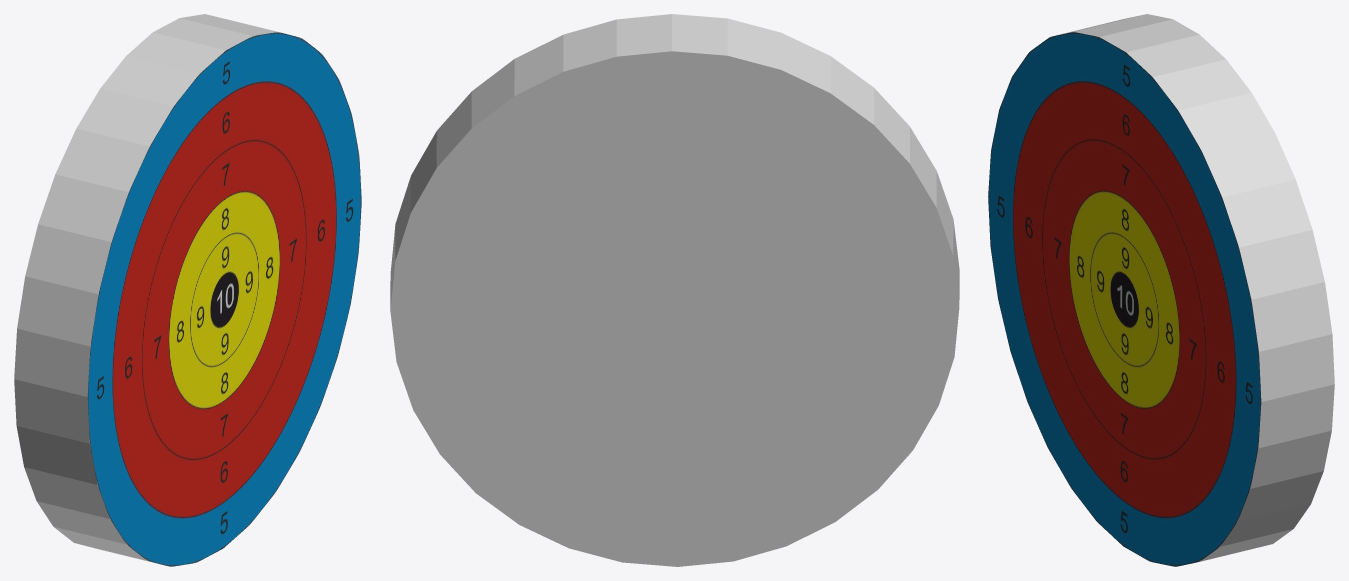
File: МИШЕНЬ.fbx
3 renders of one model, left to right at view 1: azimuth 30°, elevation 25°; view 2: azimuth 150°, elevation 25°; view 3: azimuth 270°, elevation 25°, orthographic. The views are drawn at different scales.
Visible parts, largest first — view 1: Цилиндр; view 2: Цилиндр; view 3: Цилиндр.
Part boxes in pixels (<box>): Цилиндр: <box>14,14,361,566</box>; Цилиндр: <box>390,14,959,566</box>; Цилиндр: <box>988,14,1334,566</box>.
Size of the model in its own units: 189 by 200 by 127.
